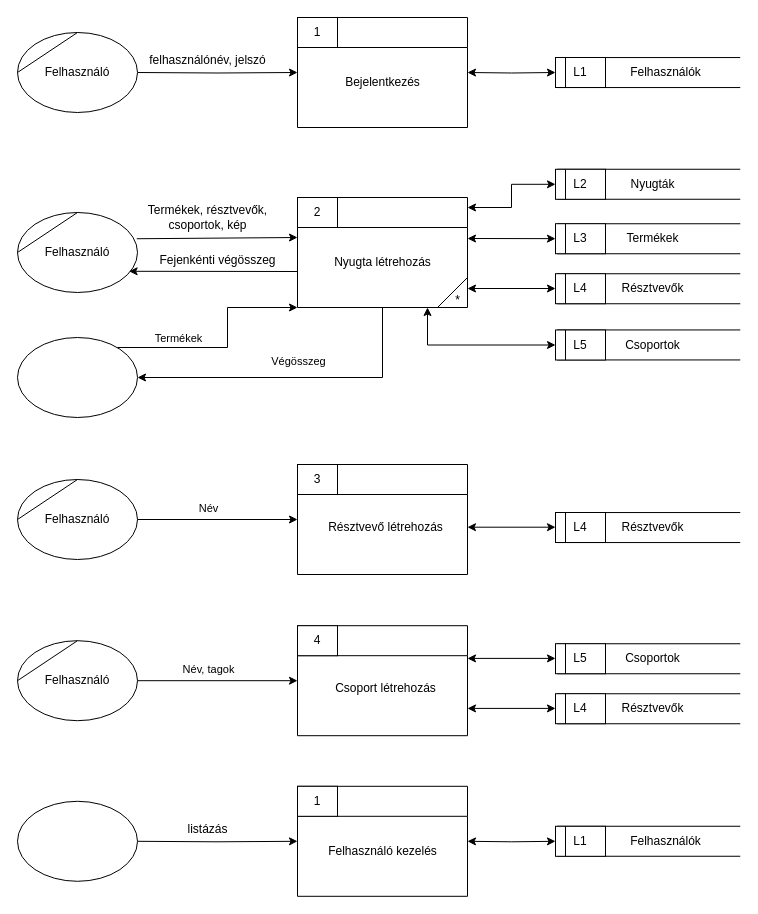
Image size: 758x914. Some labels were removed from this diagram. The centre of each missing label's shape, as x and y in pixels:
Adminisztrátor: point (77, 840)
Látogató: point (77, 377)
